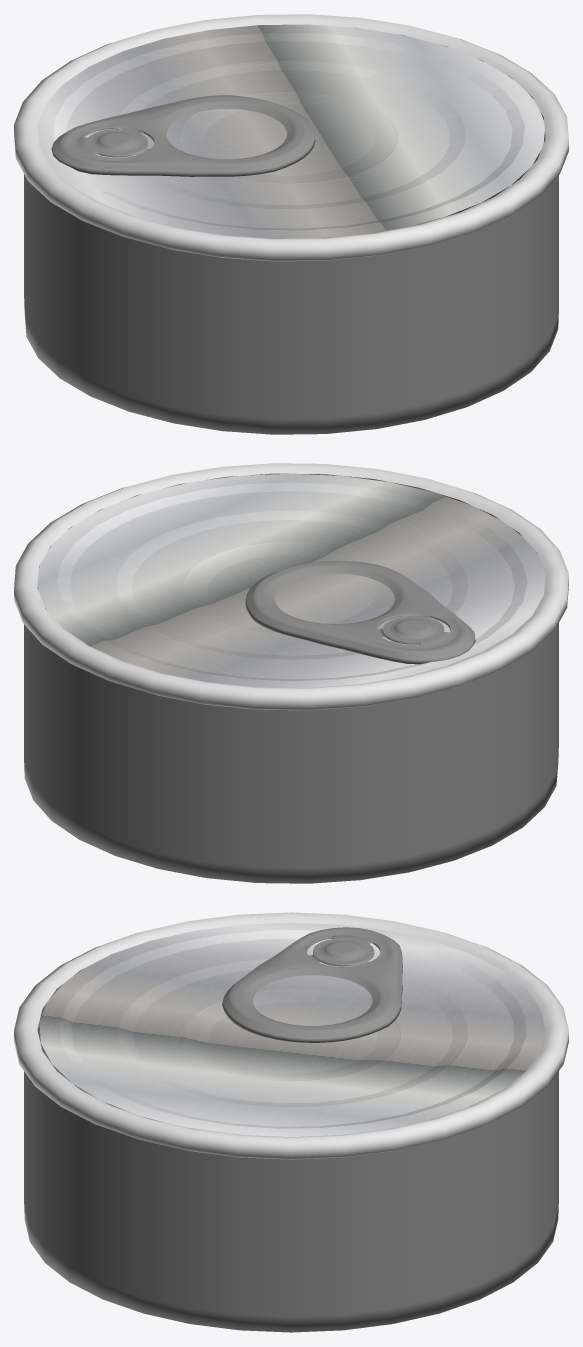
Rendered from tuna_can.dae.
3 renders of one model, top to bottom at view 1: azimuth 30°, elevation 25°; view 2: azimuth 150°, elevation 25°; view 3: azimuth 270°, elevation 25°, orthographic.
Visible parts, largest first — view 1: Circle.004; view 2: Circle.004; view 3: Circle.004.
Part boxes in pixels (box(x1,y1,x2,y2)): Circle.004: box(14, 14, 568, 434); Circle.004: box(14, 463, 568, 883); Circle.004: box(14, 912, 568, 1332).
Bounding box in the file's own units: 0.1006 × 0.1006 × 0.0401.
2 materials, 1 textured.
